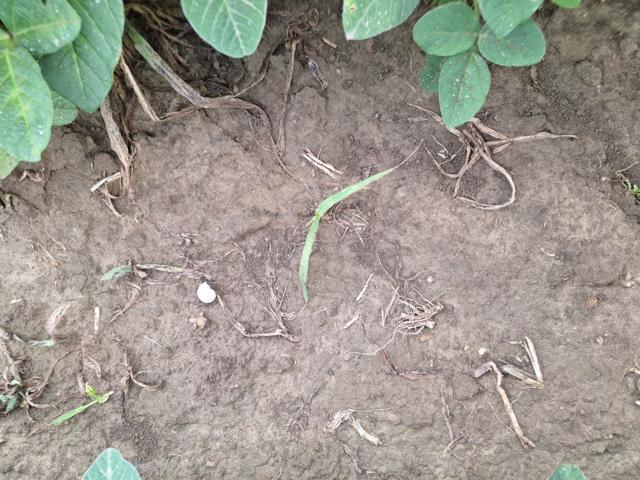bad weed: (277, 127, 441, 323), (51, 376, 126, 426), (0, 370, 33, 421), (609, 168, 640, 213), (112, 257, 157, 284)
